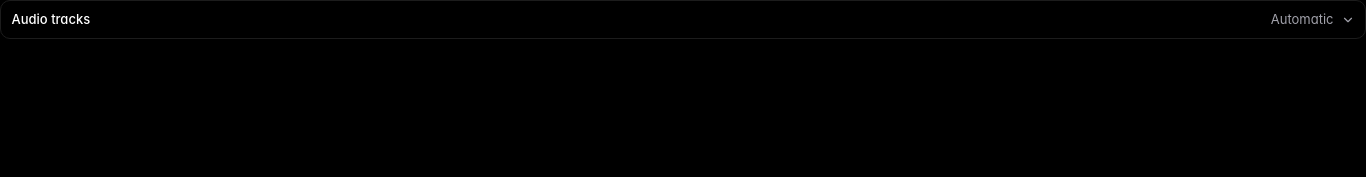
download customization › selects the original track and a dubbed track together
Click the text "Audio tracks": point(51, 20) [12, 10, 90, 29]
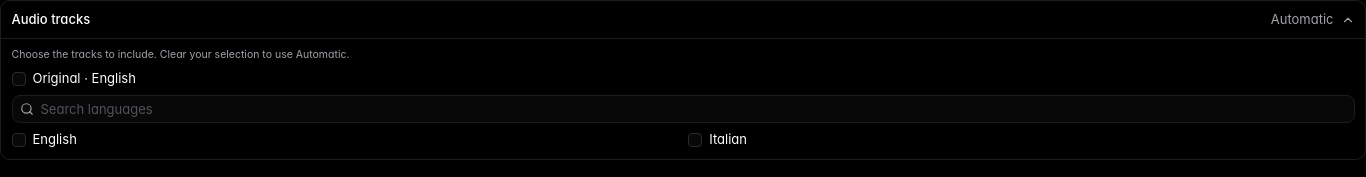
Click the checkbox named "Original · English" next to "Original · English": point(18, 78) [12, 72, 26, 86]
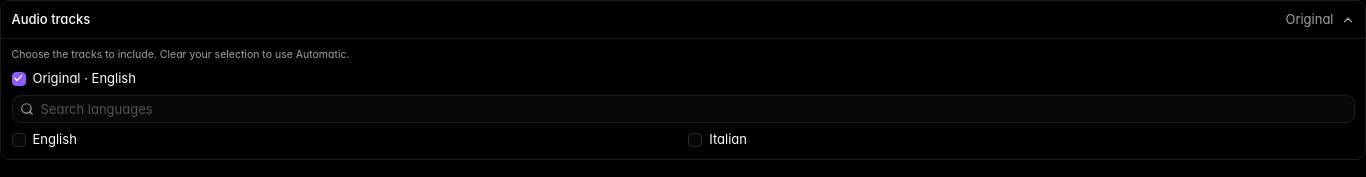
Click the checkbox named "Italian" next to "Italian": point(695, 140) [688, 133, 702, 147]
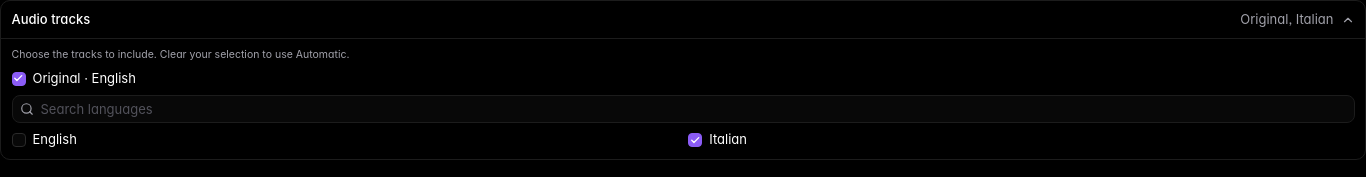
Check: the checkbox named "Original · English" next to "Original · English" is checked, box [12, 72, 26, 86]
Check: the 3rd checkbox named "Italian" is checked, box [688, 133, 702, 147]
Check: the text "Original, Italian" is shown, box [1240, 10, 1334, 29]
